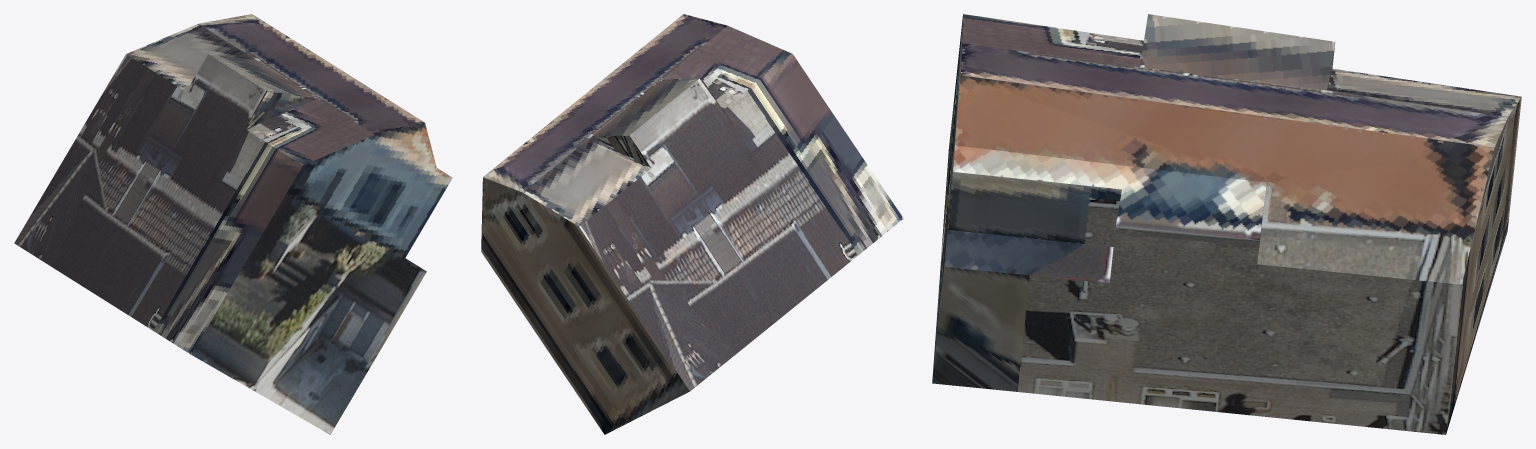
3 renders of one model, left to right at view 1: azimuth 30°, elevation 25°; view 2: azimuth 150°, elevation 25°; view 3: azimuth 270°, elevation 25°, orthographic. The views are drawn at different scales.
Visible parts, largest first — view 1: BAG_0599100000760478 (×4); view 2: BAG_0599100000760478 (×4); view 3: BAG_0599100000760478 (×4).
Part boxes in pixels (box(x1,y1,x2,y2)): BAG_0599100000760478 (×4): box(14, 14, 452, 434); BAG_0599100000760478 (×4): box(481, 14, 903, 434); BAG_0599100000760478 (×4): box(932, 14, 1521, 434).
Size of the model in its own units: 12.43 by 12.7 by 16.03.
Materials: 5 (5 with a texture image).
